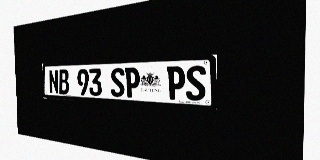3: (89, 68, 102, 96)
9: (77, 69, 89, 95)
B: (58, 69, 69, 95)
N: (49, 70, 59, 94)
P: (167, 66, 185, 100), (125, 67, 140, 98)
S: (186, 65, 206, 101), (110, 68, 125, 97)
